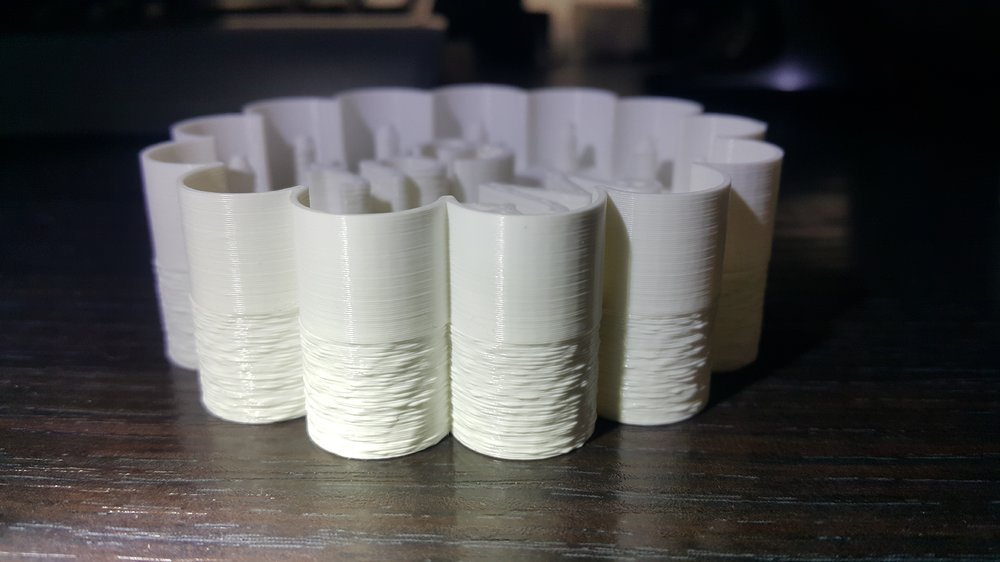blob: (476, 334, 586, 451), (204, 310, 297, 419), (346, 338, 427, 442), (648, 311, 703, 412)
